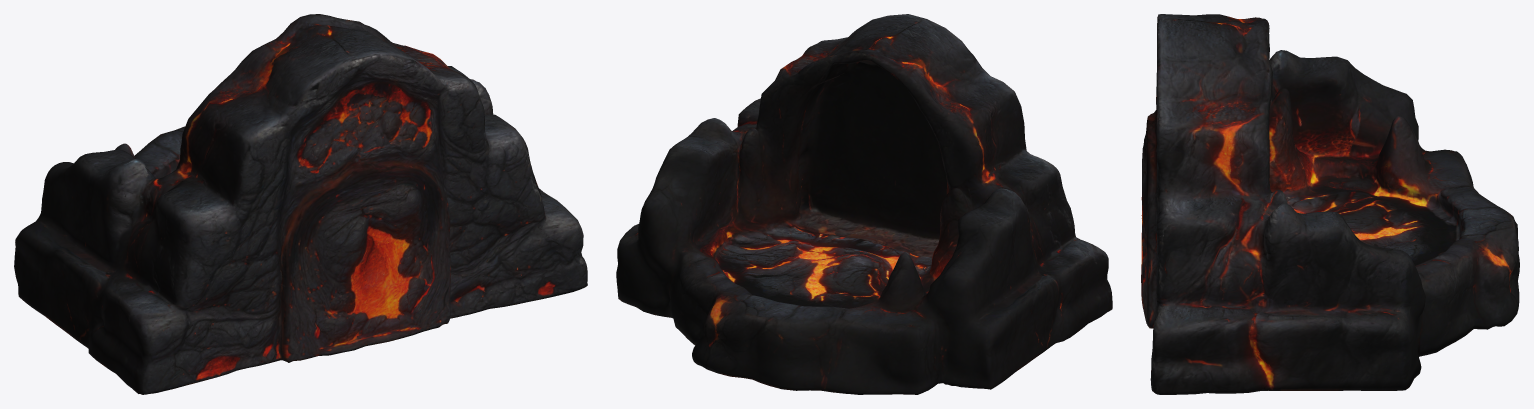
The model's file is DecayedStamp_FBX.fbx.
The picture shows the model from 3 angles, left to right: view 1: azimuth 30°, elevation 25°; view 2: azimuth 150°, elevation 25°; view 3: azimuth 270°, elevation 25°; orthographic projection. The views are drawn at different scales.
Parts seen in each view (by area): view 1: Mesh_0.008; view 2: Mesh_0.008; view 3: Mesh_0.008.
Boxes of the visible parts, x1,y1,x2,y2 form: Mesh_0.008: (14,14,587,394); Mesh_0.008: (616,14,1112,394); Mesh_0.008: (1141,14,1519,394).
Size of the model in its own units: 199 by 121 by 154.
Materials: 1 (1 with a texture image).
